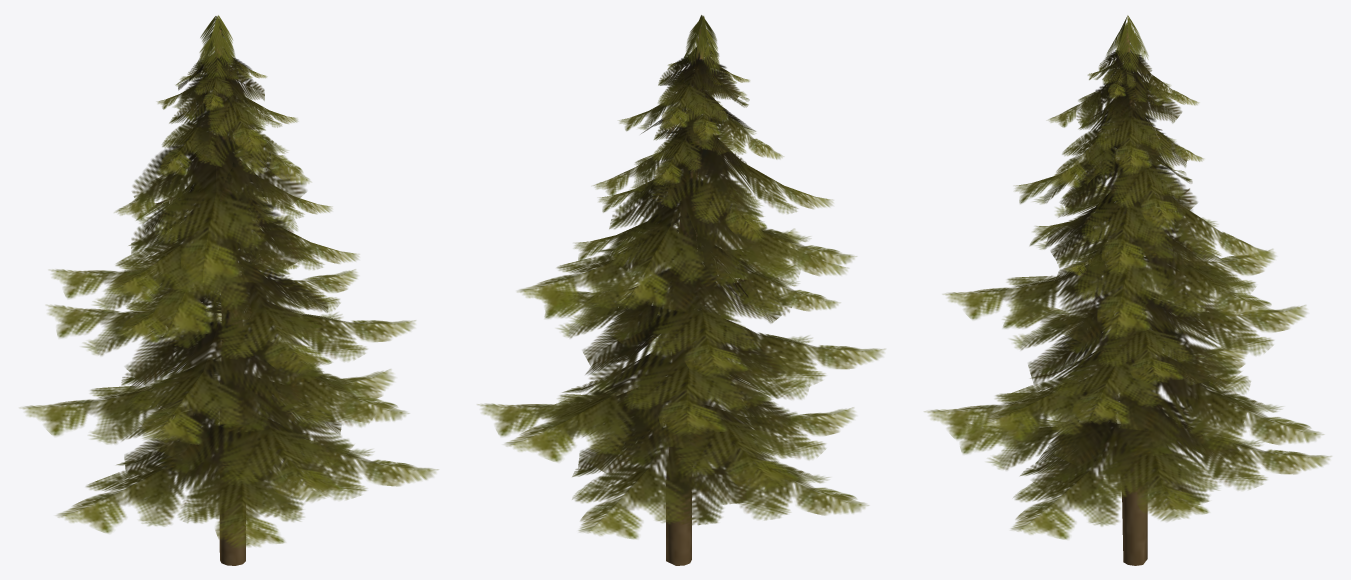
File: tree-pine.lod1.glb
3 views of the same model, side by side, from view 1: azimuth 30°, elevation 25°; view 2: azimuth 150°, elevation 25°; view 3: azimuth 270°, elevation 25° (orthographic). The views are drawn at different scales.
Visible parts, largest first — view 1: Leaves/001_Leavs_0, Trank.001_Trank_0; view 2: Leaves/001_Leavs_0, Trank.001_Trank_0; view 3: Leaves/001_Leavs_0, Trank.001_Trank_0.
Boxes of the visible parts, bbox=[...] form: Leaves/001_Leavs_0: bbox=[20, 15, 438, 548]; Trank.001_Trank_0: bbox=[215, 30, 245, 565]; Leaves/001_Leavs_0: bbox=[477, 15, 885, 539]; Trank.001_Trank_0: bbox=[666, 28, 703, 565]; Leaves/001_Leavs_0: bbox=[924, 15, 1331, 539]; Trank.001_Trank_0: bbox=[1122, 28, 1147, 565].
Size of the model in its own units: 11.99 by 17 by 11.99.
2 materials, 2 textured.
